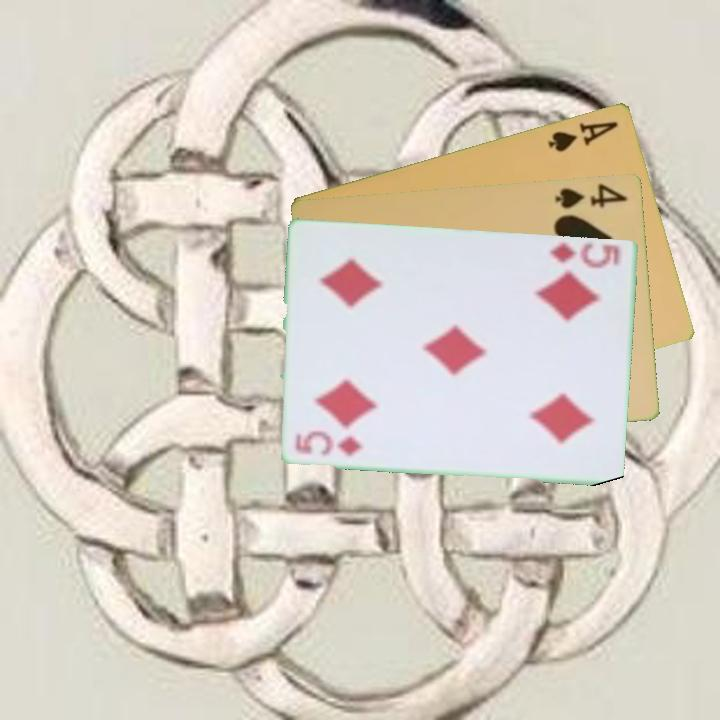4s: (552, 179, 631, 211)
5d: (546, 239, 622, 271), (292, 428, 367, 459)
As: (544, 117, 621, 155)
